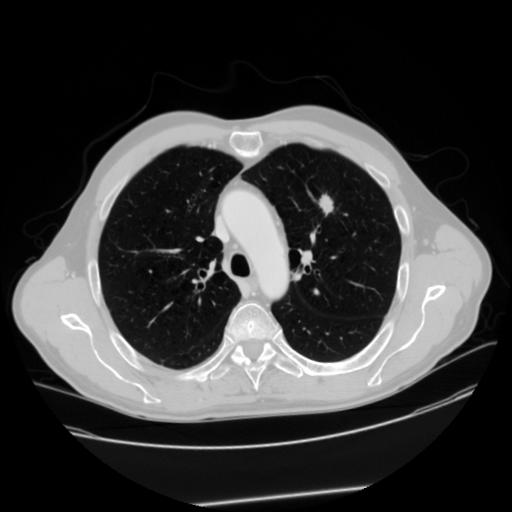nodule: (315, 194, 338, 217)
